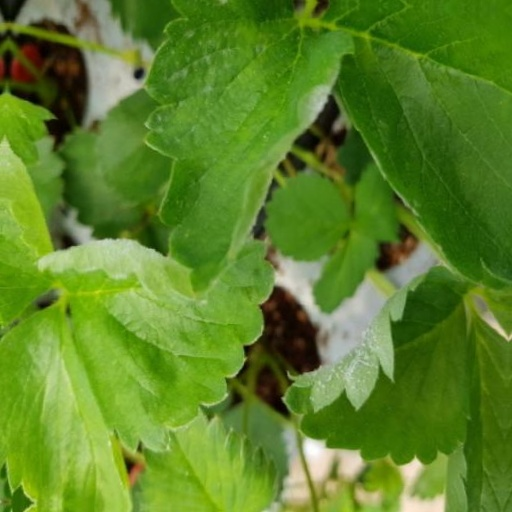Powdery Mildew Leaf: (34, 237, 276, 458), (287, 259, 478, 459)
